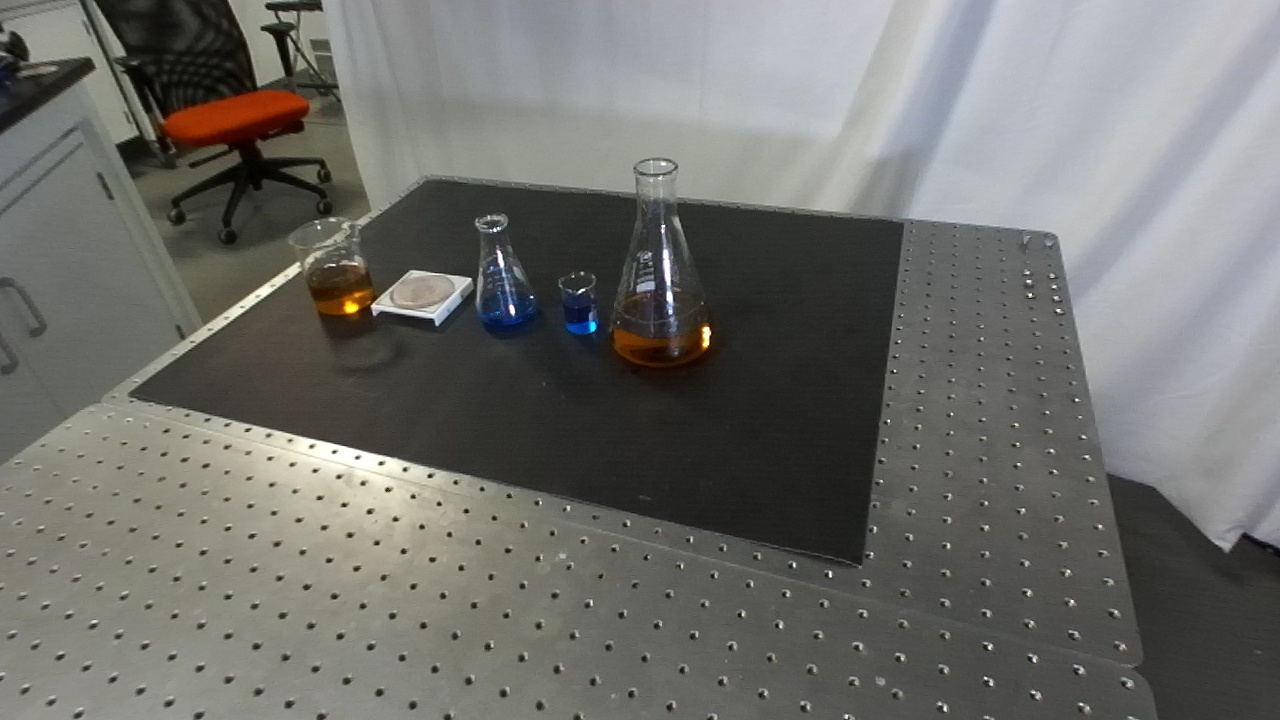glass: (603, 155, 715, 372), (287, 215, 377, 324), (469, 213, 541, 331), (556, 270, 601, 337)
plate: (369, 262, 477, 334)
